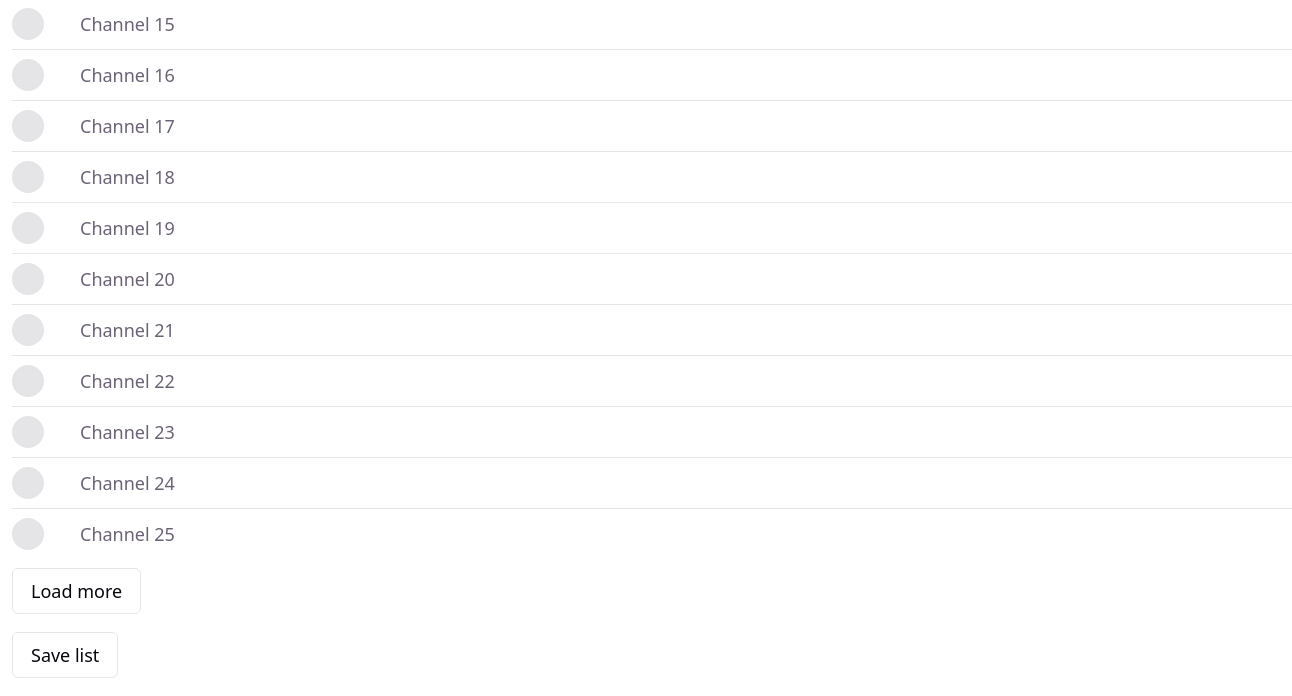
Test case: ListEditorPage › resets back to the first page when the search text changes
(page scrolled)
Click the button "Load more".
click(77, 591)  # box [12,568,141,614]
(page scrolled)
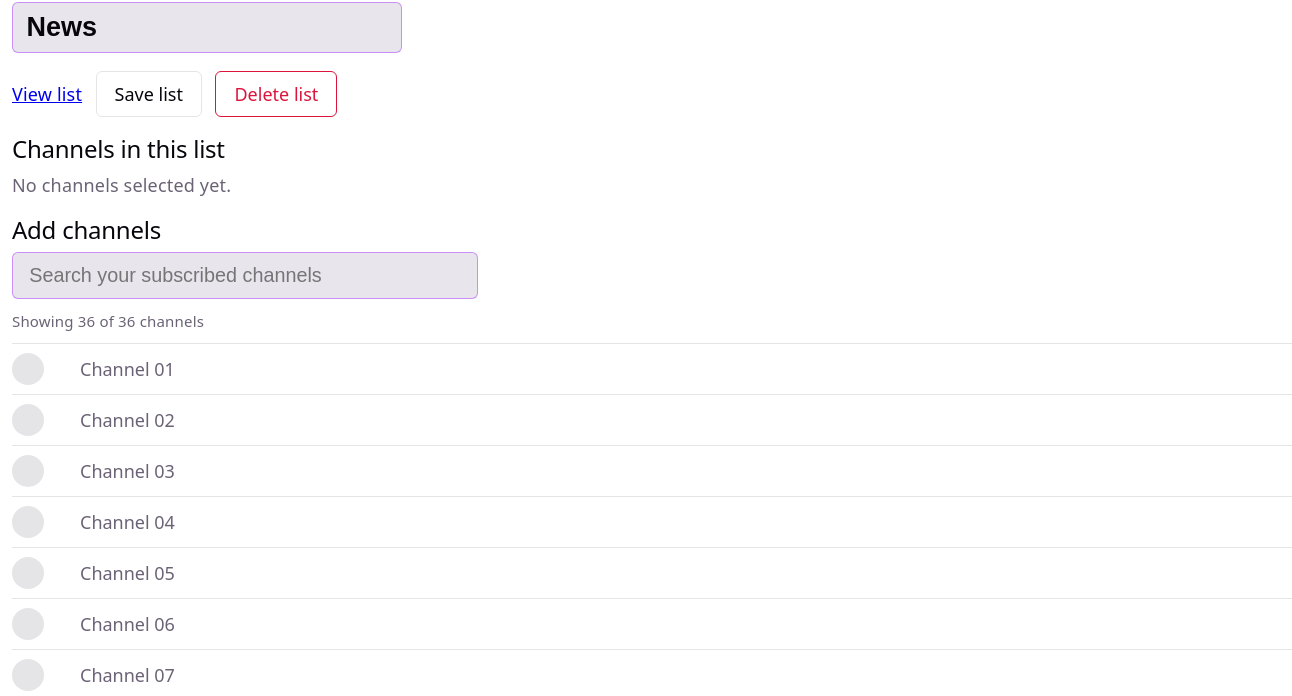
Type "Zebra" into the field with placeholder "Search your subscribed channels".
click(245, 275); type("Zebra")  # box [12,252,478,298]
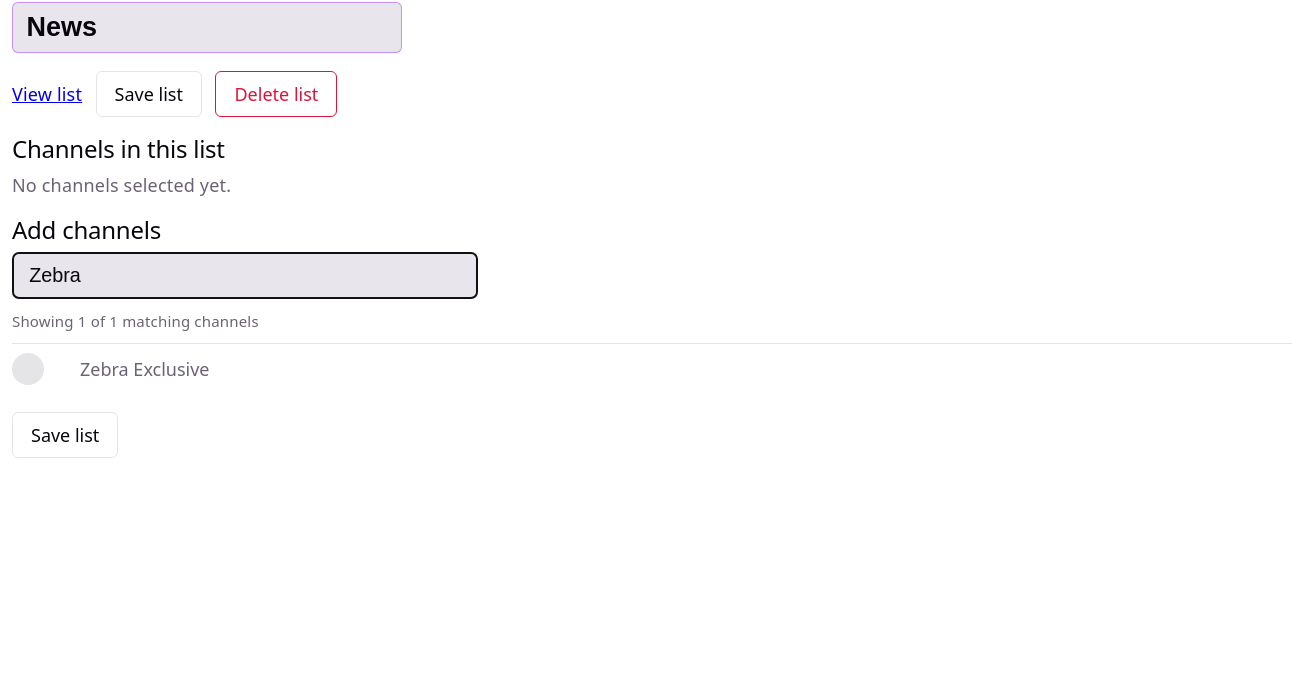
Expected: the button "Zebra Exclusive" is shown, [80,356,210,382]
Expected: the button "Channel 01" is gone
Expected: the text "Showing 1 of 1 matching channels" is shown, [12,310,259,330]
